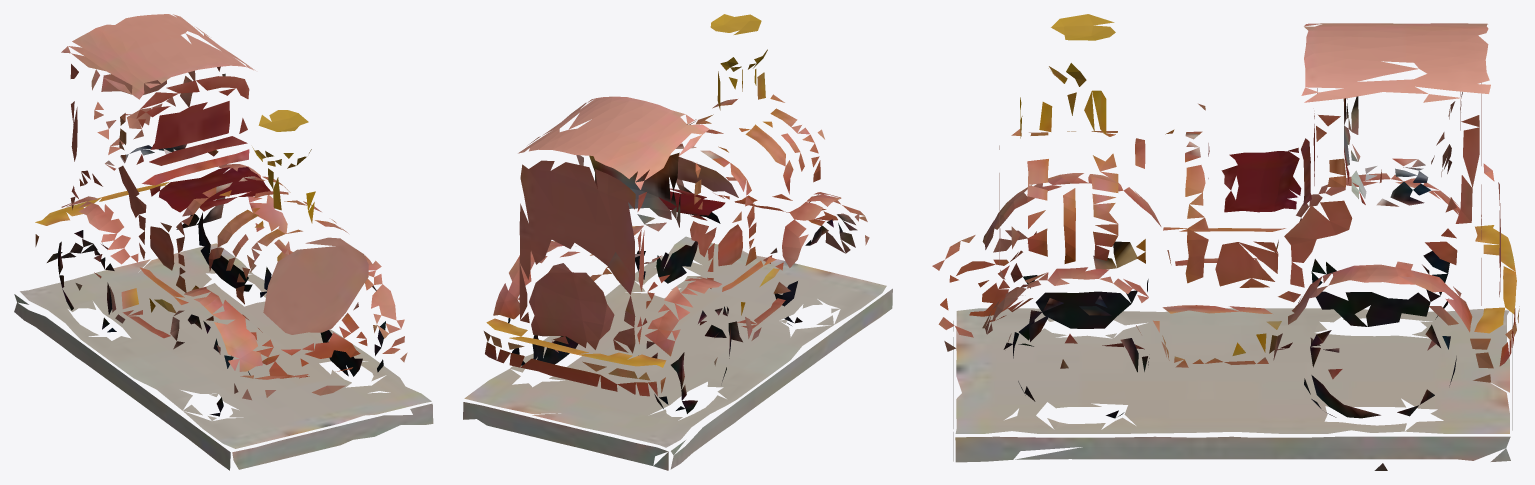
File: toy-train.glb
3 views of the same model, side by side, from view 1: azimuth 30°, elevation 25°; view 2: azimuth 150°, elevation 25°; view 3: azimuth 270°, elevation 25° (orthographic). The views are drawn at different scales.
Visible parts, largest first — view 1: ride_train; view 2: ride_train; view 3: ride_train.
Boxes of the visible parts, x1=… form: ride_train: x1=14, y1=14, x2=433, y2=470; ride_train: x1=463, y1=14, x2=892, y2=470; ride_train: x1=932, y1=14, x2=1519, y2=470.
Bounding box in the file's own units: 0.5002 × 0.7109 × 0.9954.
Materials: 1 (1 with a texture image).
